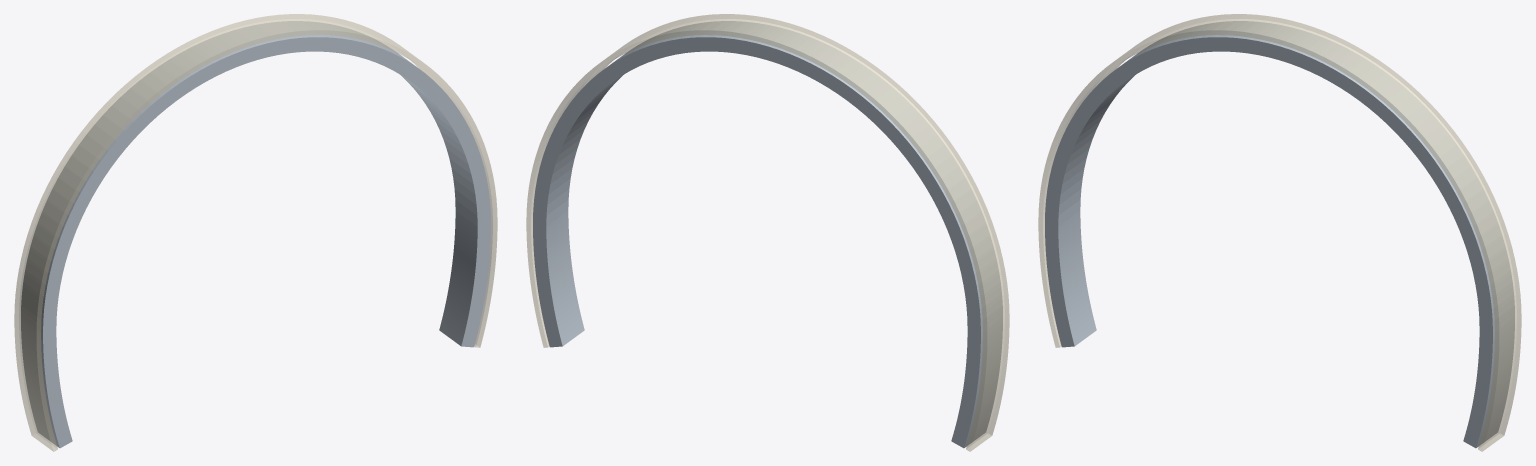
Rendered from ZZ-Y1_support_1m.glb.
3 views of the same model, side by side, from view 1: azimuth 30°, elevation 25°; view 2: azimuth 150°, elevation 25°; view 3: azimuth 330°, elevation 25° (orthographic).
Parts seen in each view (by area): view 1: secondaryLining, primarySupportConcrete; view 2: secondaryLining, primarySupportConcrete; view 3: secondaryLining, primarySupportConcrete.
Part boxes in pixels (x1,y1,x2,y2): secondaryLining: (21,21,490,448); primarySupportConcrete: (14,14,497,451); secondaryLining: (533,21,1002,448); primarySupportConcrete: (526,14,1009,451); secondaryLining: (1045,21,1514,448); primarySupportConcrete: (1038,14,1521,451).
Size of the model in its own units: 12.04 by 9.07 by 1.
